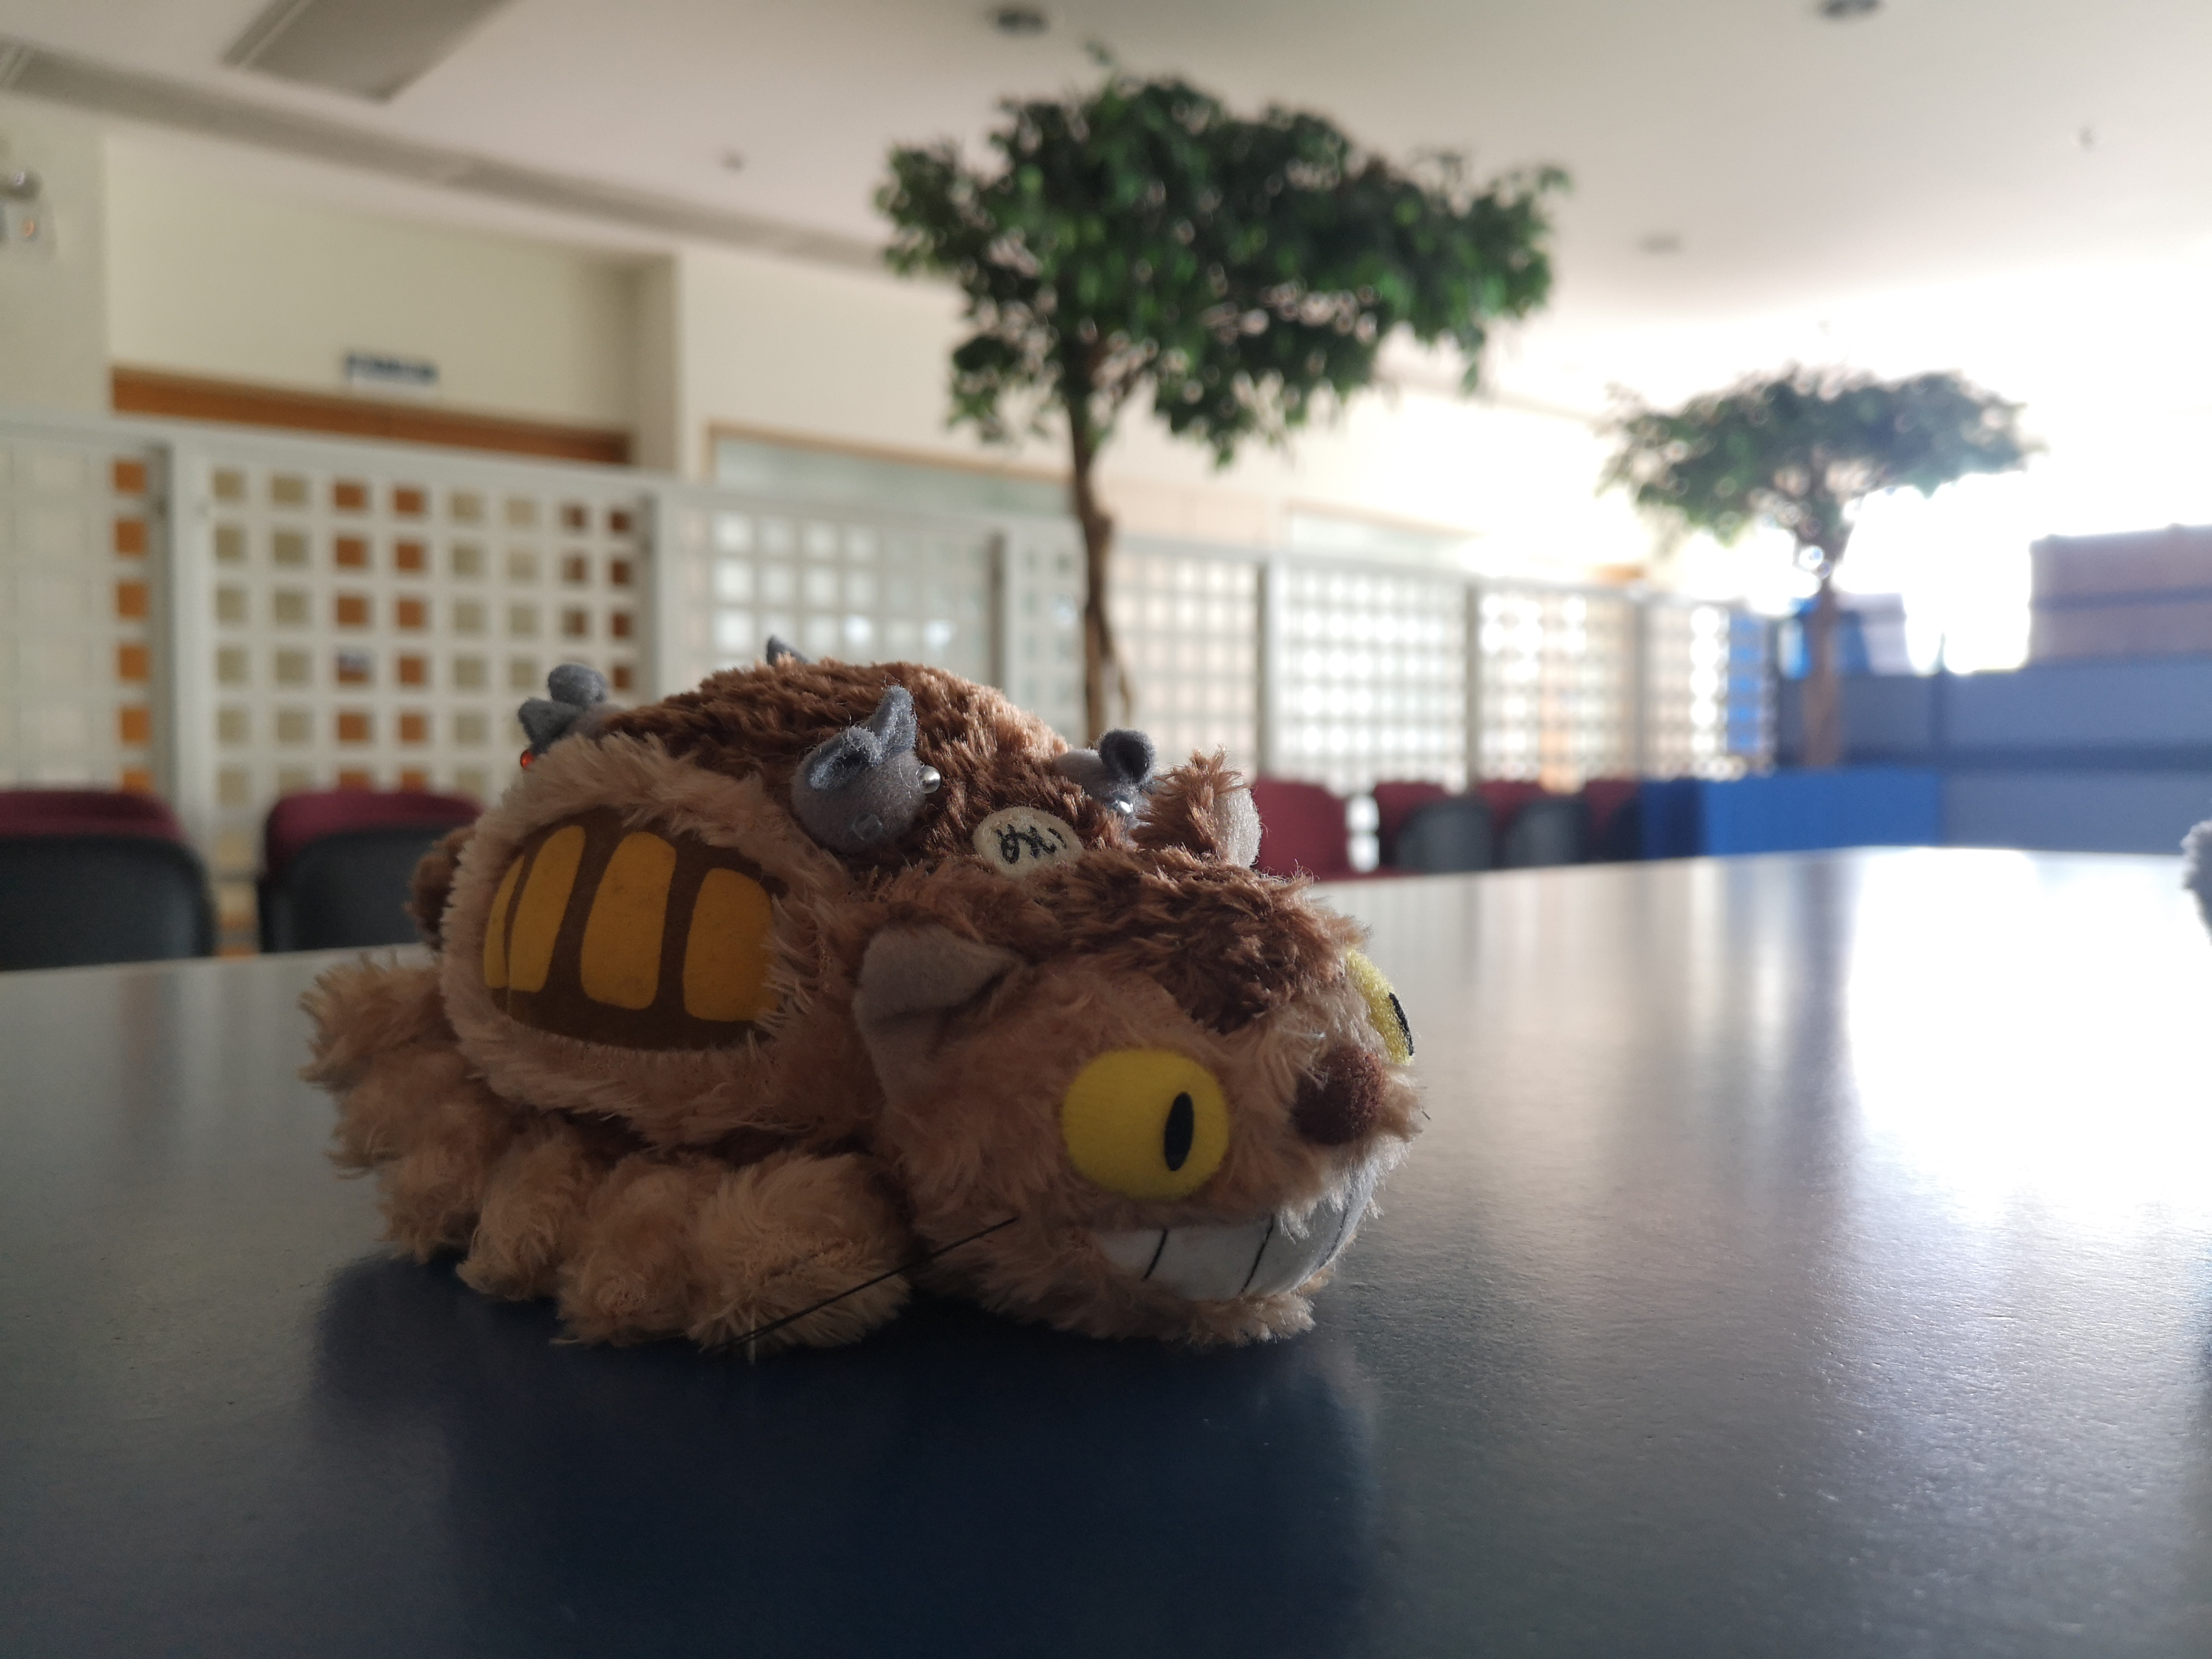nekobus: (286, 620, 1453, 1401)
